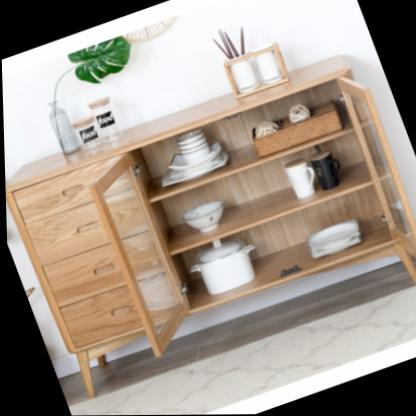Cupboard: (4, 45, 416, 399)
